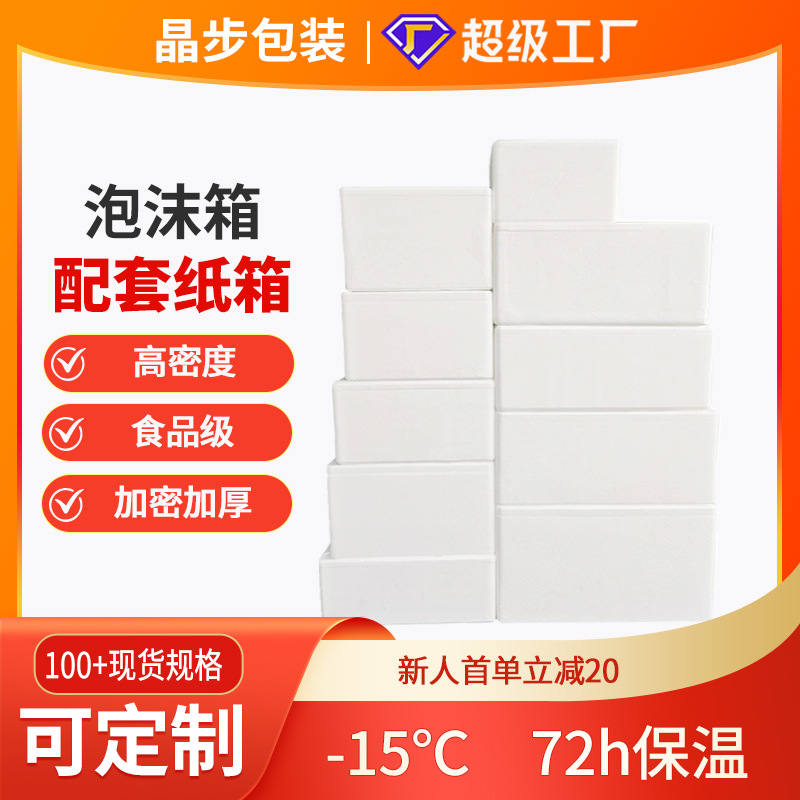泡沫箱: (321, 142, 711, 622)
